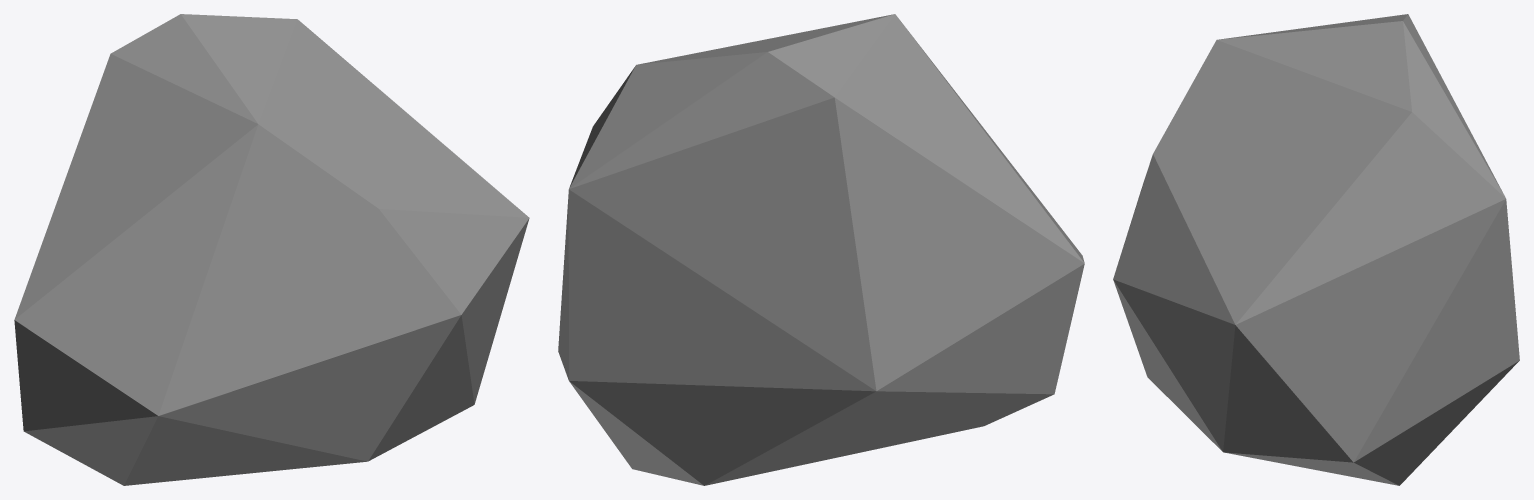
Rendered from SPW_Natures_Stone_11.glb.
The picture shows the model from 3 angles, left to right: view 1: azimuth 30°, elevation 25°; view 2: azimuth 150°, elevation 25°; view 3: azimuth 270°, elevation 25°; orthographic projection. The views are drawn at different scales.
Visible parts, largest first — view 1: SPW_Natures_Stone_11; view 2: SPW_Natures_Stone_11; view 3: SPW_Natures_Stone_11.
Part boxes in pixels (x1,y1,x2,y2): SPW_Natures_Stone_11: (14,14,529,485); SPW_Natures_Stone_11: (558,14,1084,485); SPW_Natures_Stone_11: (1113,14,1519,485).
Size of the model in its own units: 1.37 by 1.15 by 1.05.
1 material, 1 textured.
